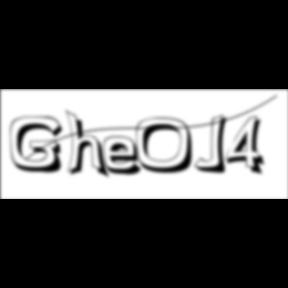4: (225, 115, 272, 179)
G: (11, 116, 70, 176)
J: (194, 114, 234, 176)
O: (136, 117, 200, 176)
e: (103, 135, 149, 178)
h: (66, 108, 112, 182)
